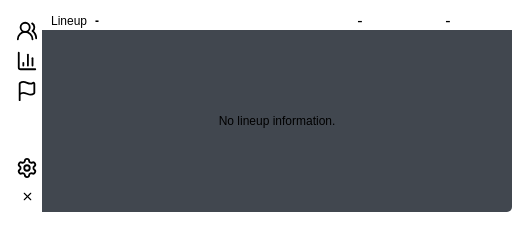
Scenario: MatchDataOverlays › shows only the Statistics resource error in the Statistics tab
What coordinates should you click on to do the following:
click the tab named "Statistics"
I would click on:
 (27, 61)
Its box is [16,50,38,72].
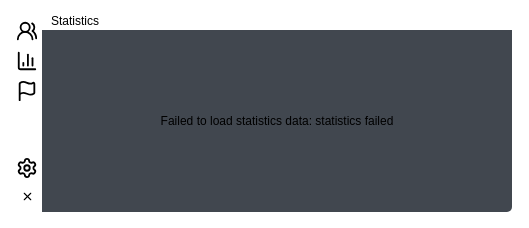
Result: the message reads "Failed to load statistics data: statistics failed" at [161,114,393,128]
